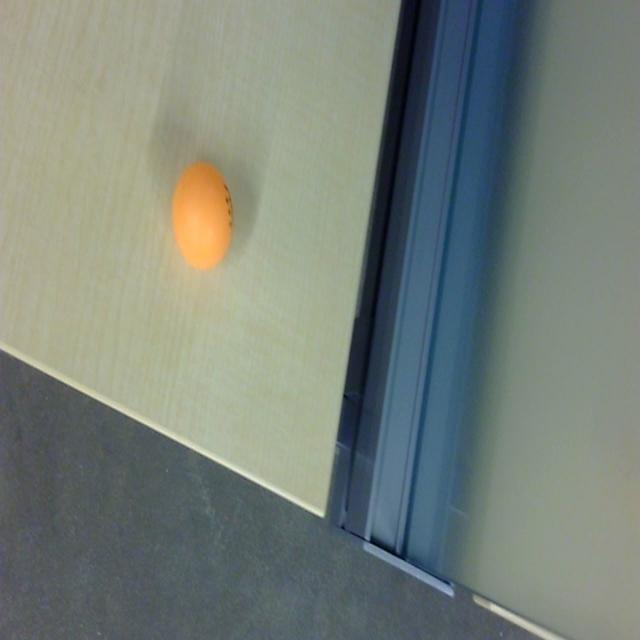ball: (171, 161, 234, 272)
